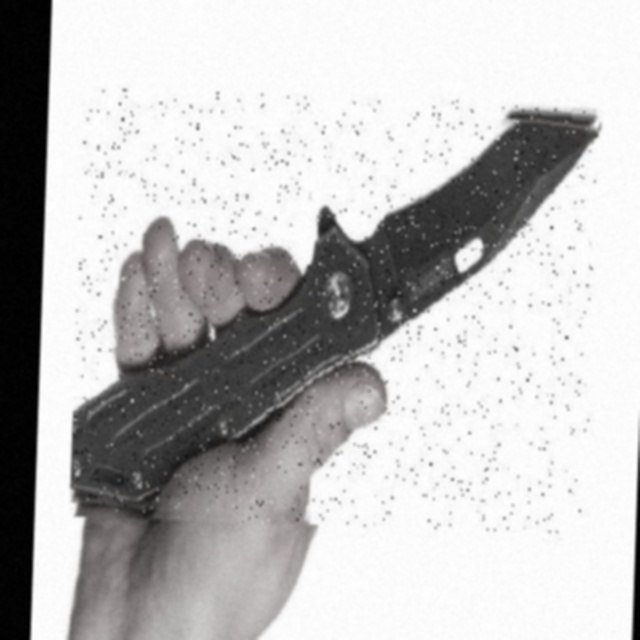Sharp-Object: (69, 88, 599, 534)
